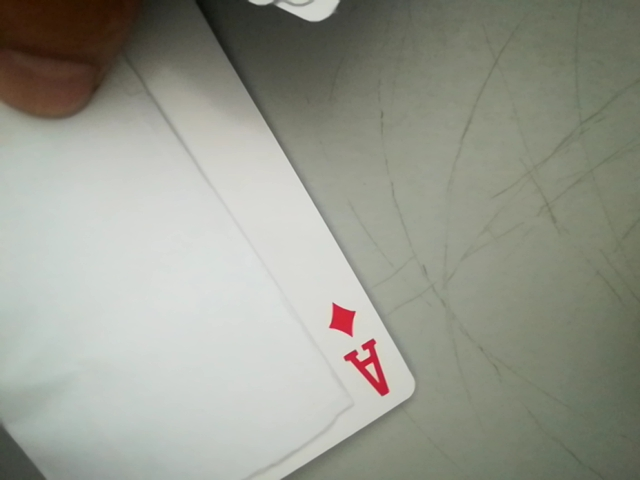fk a: (318, 297, 402, 407)
